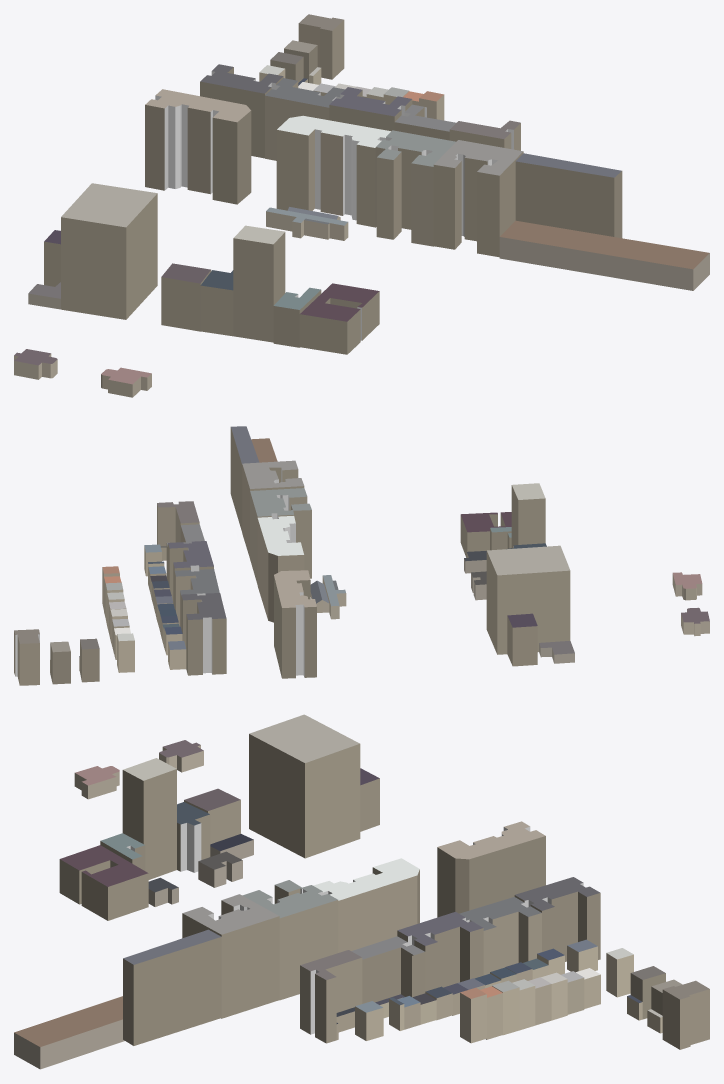
The picture shows the model from 3 angles, top to bottom: view 1: azimuth 30°, elevation 25°; view 2: azimuth 150°, elevation 25°; view 3: azimuth 270°, elevation 25°; orthographic projection. The views are drawn at different scales.
Parts seen in each view (by area): view 1: tuile; view 2: tuile; view 3: tuile.
Boxes of the visible parts, x1,y1,x2,y2 form: tuile: [14, 14, 709, 397]; tuile: [14, 426, 709, 685]; tuile: [14, 714, 709, 1069].
Size of the model in its own units: 207 by 33.31 by 193.
